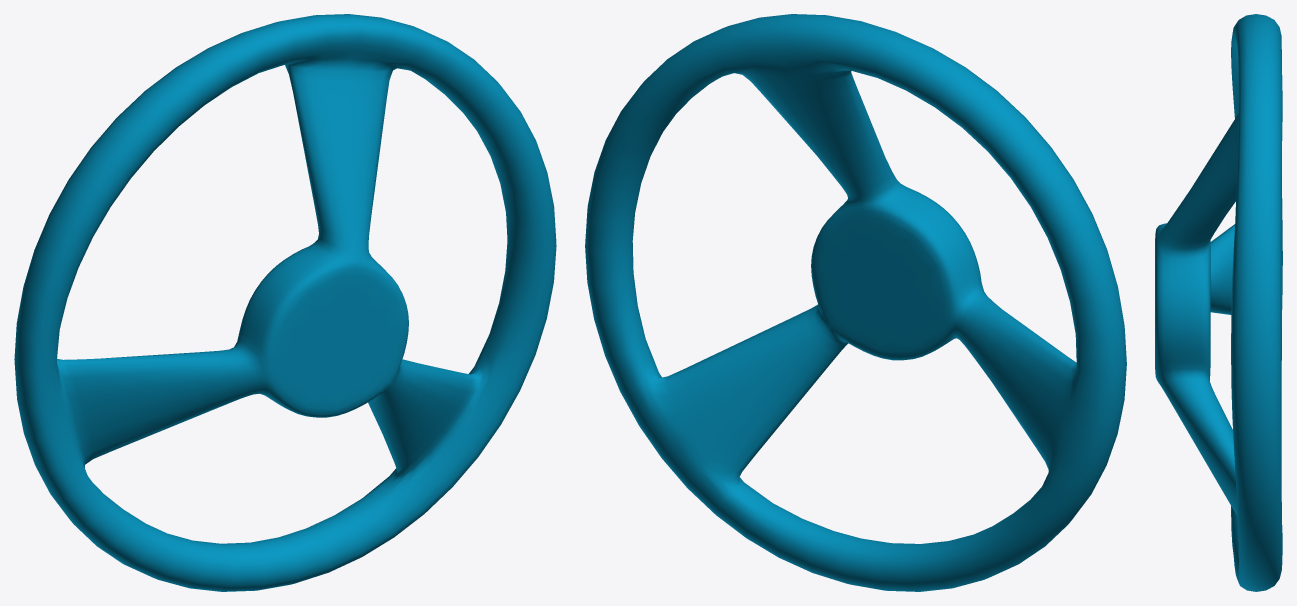
The picture shows the model from 3 angles, left to right: view 1: azimuth 30°, elevation 25°; view 2: azimuth 150°, elevation 25°; view 3: azimuth 270°, elevation 25°; orthographic projection. The views are drawn at different scales.
Visible parts, largest first — view 1: Steering_wheel,_colorize_; view 2: Steering_wheel,_colorize_; view 3: Steering_wheel,_colorize_.
Boxes of the visible parts, x1=… form: Steering_wheel,_colorize_: x1=14, y1=14, x2=556, y2=591; Steering_wheel,_colorize_: x1=585, y1=14, x2=1126, y2=591; Steering_wheel,_colorize_: x1=1155, y1=14, x2=1282, y2=591.
Bounding box in the file's own units: 0.2651 × 0.2651 × 0.0586.
